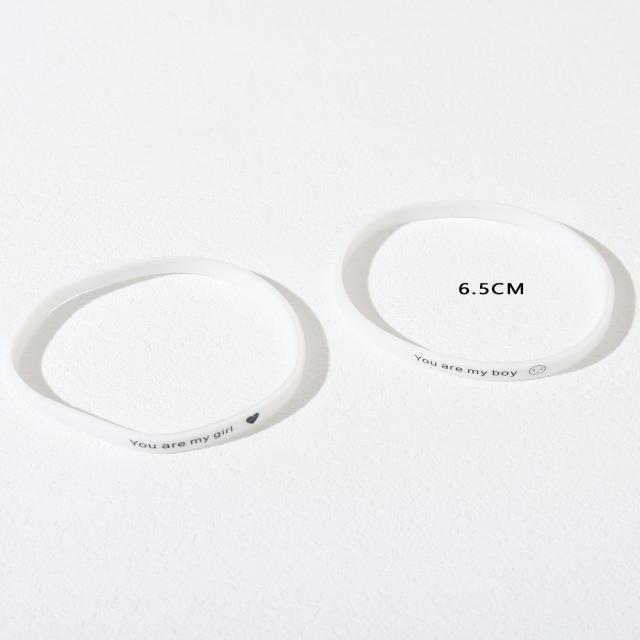bracelet: (0, 218, 338, 547), (306, 168, 640, 440)
